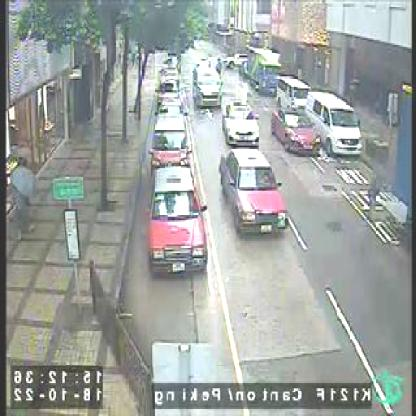Car: (146, 165, 207, 277), (218, 147, 289, 239), (270, 107, 319, 156), (153, 112, 191, 168), (222, 102, 259, 148), (192, 64, 224, 112), (156, 78, 181, 103)
Truck: (306, 89, 362, 156), (240, 46, 278, 98), (276, 73, 309, 113)
